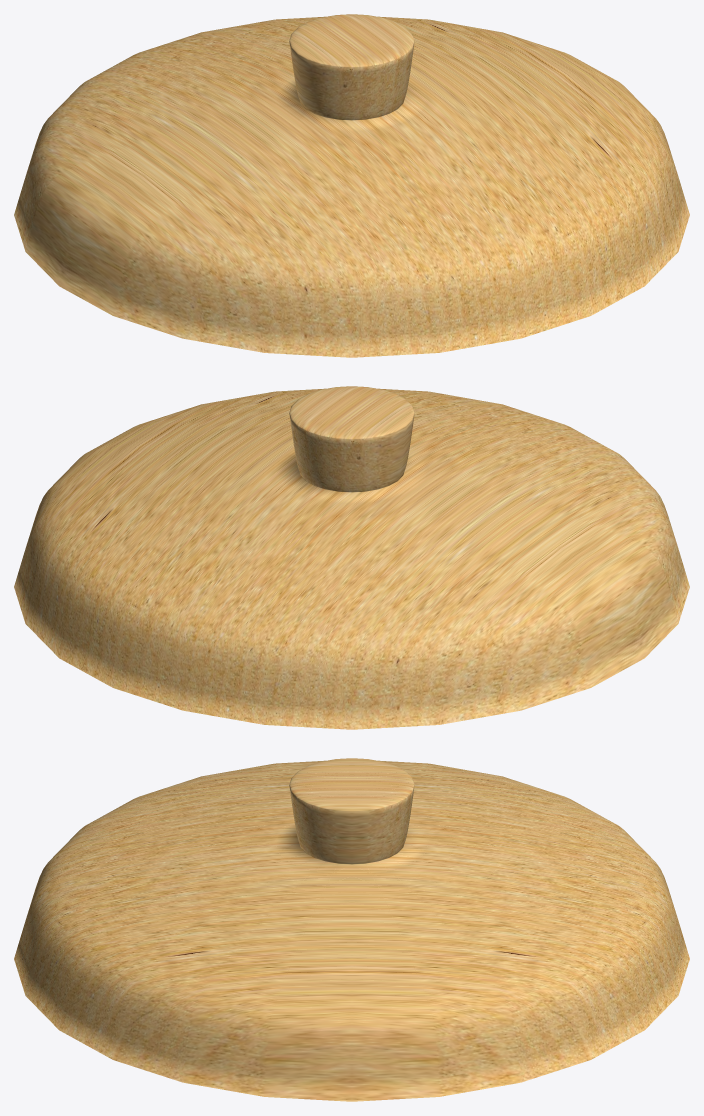
The model's file is original-4.obj.
3 renders of one model, top to bottom at view 1: azimuth 30°, elevation 25°; view 2: azimuth 150°, elevation 25°; view 3: azimuth 270°, elevation 25°, orthographic.
Visible parts, largest first — view 1: #ID26; view 2: #ID26; view 3: #ID26.
Part boxes in pixels (box(x1,y1,x2,y2)): #ID26: box(14, 14, 689, 357); #ID26: box(14, 386, 689, 729); #ID26: box(14, 758, 689, 1101).
Bounding box in the file's own units: 1.4 × 0.4078 × 1.4.
